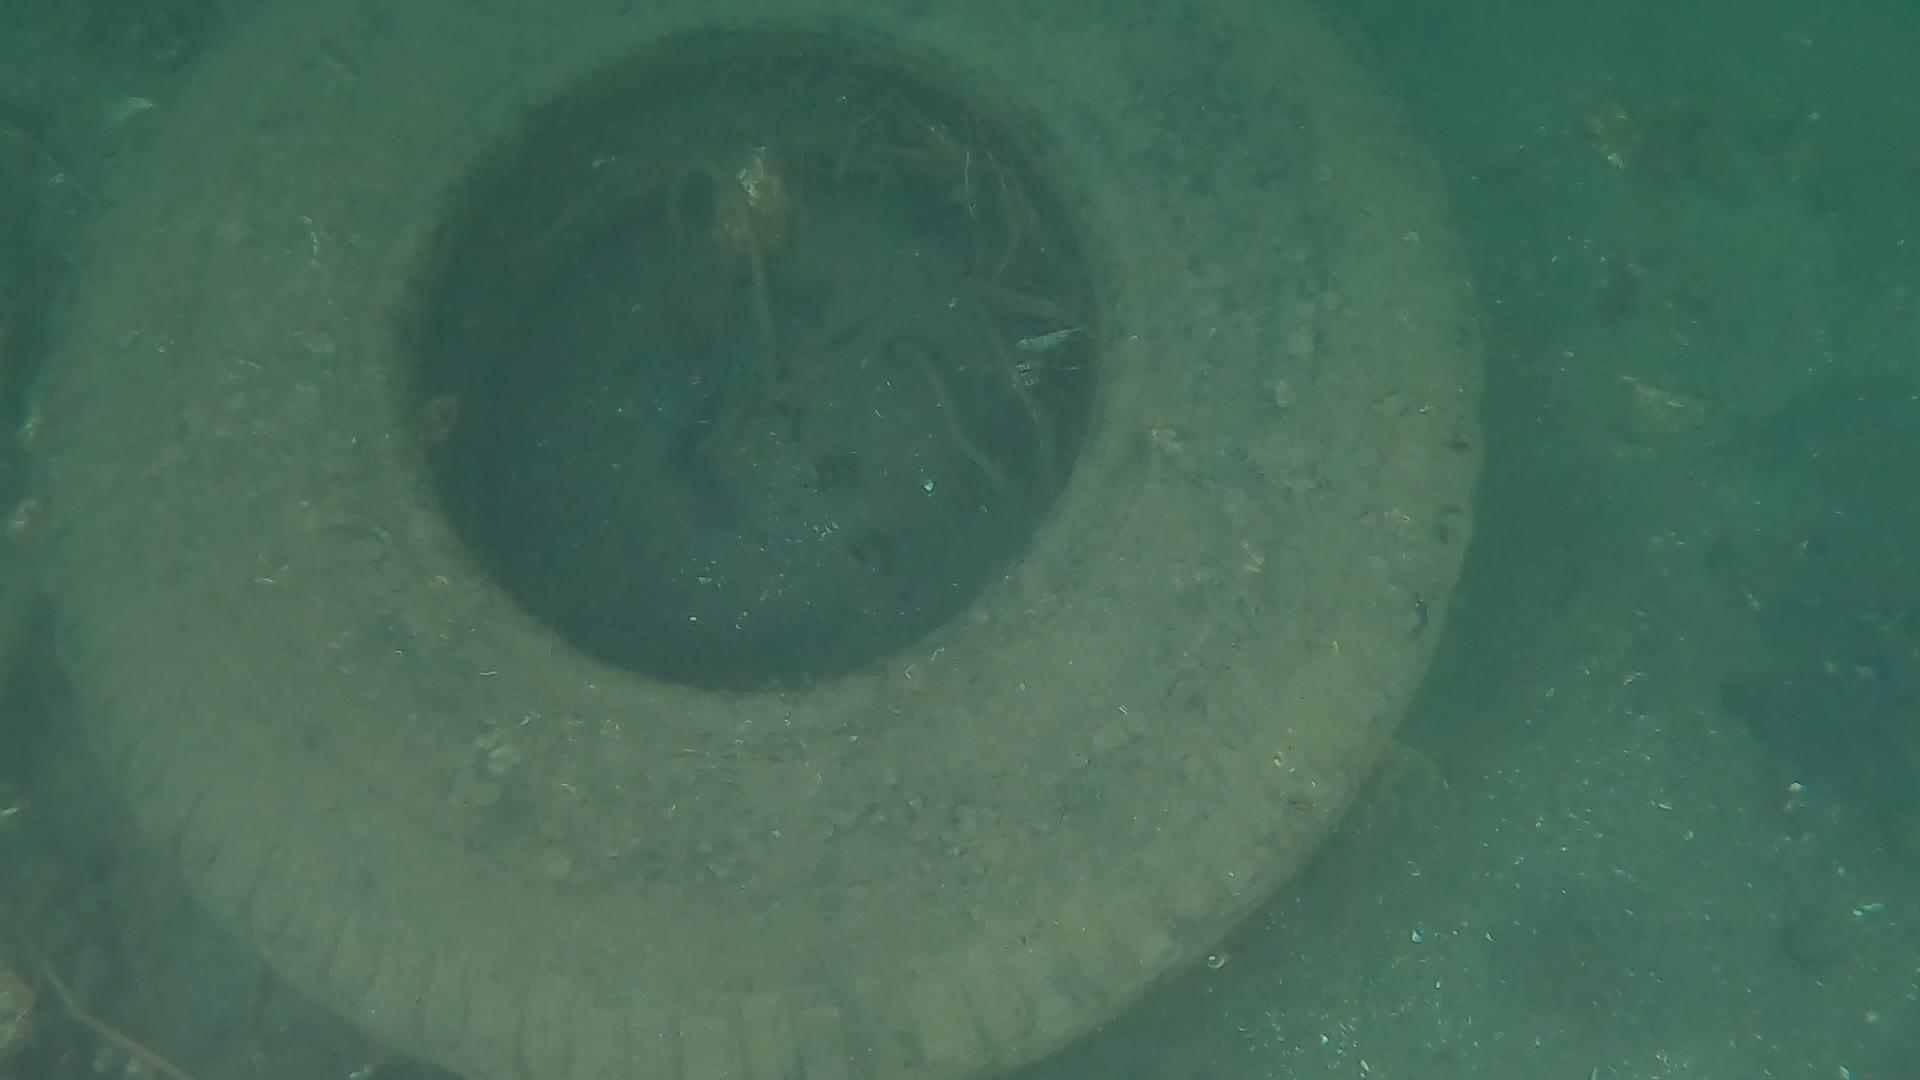tire: (18, 0, 1494, 1080)
